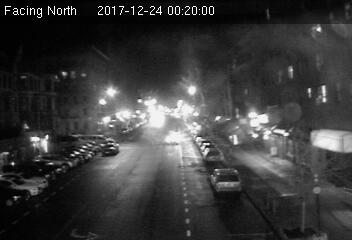car: (212, 168, 241, 196), (203, 147, 225, 163), (99, 142, 120, 156)
